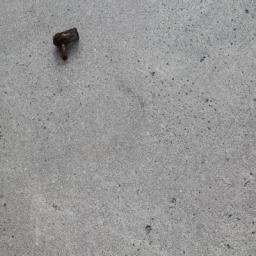FOD: (48, 25, 85, 64)
